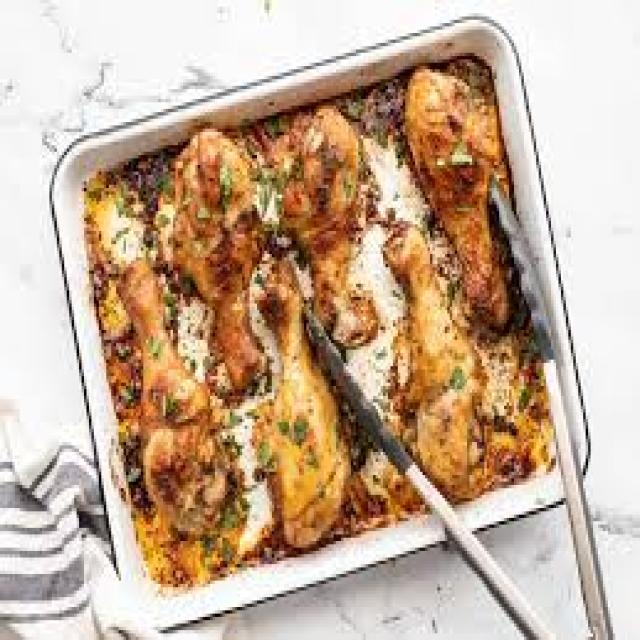Frango: (119, 76, 556, 544)
